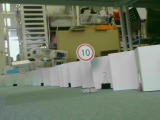speed_10: (75, 42, 96, 63)
